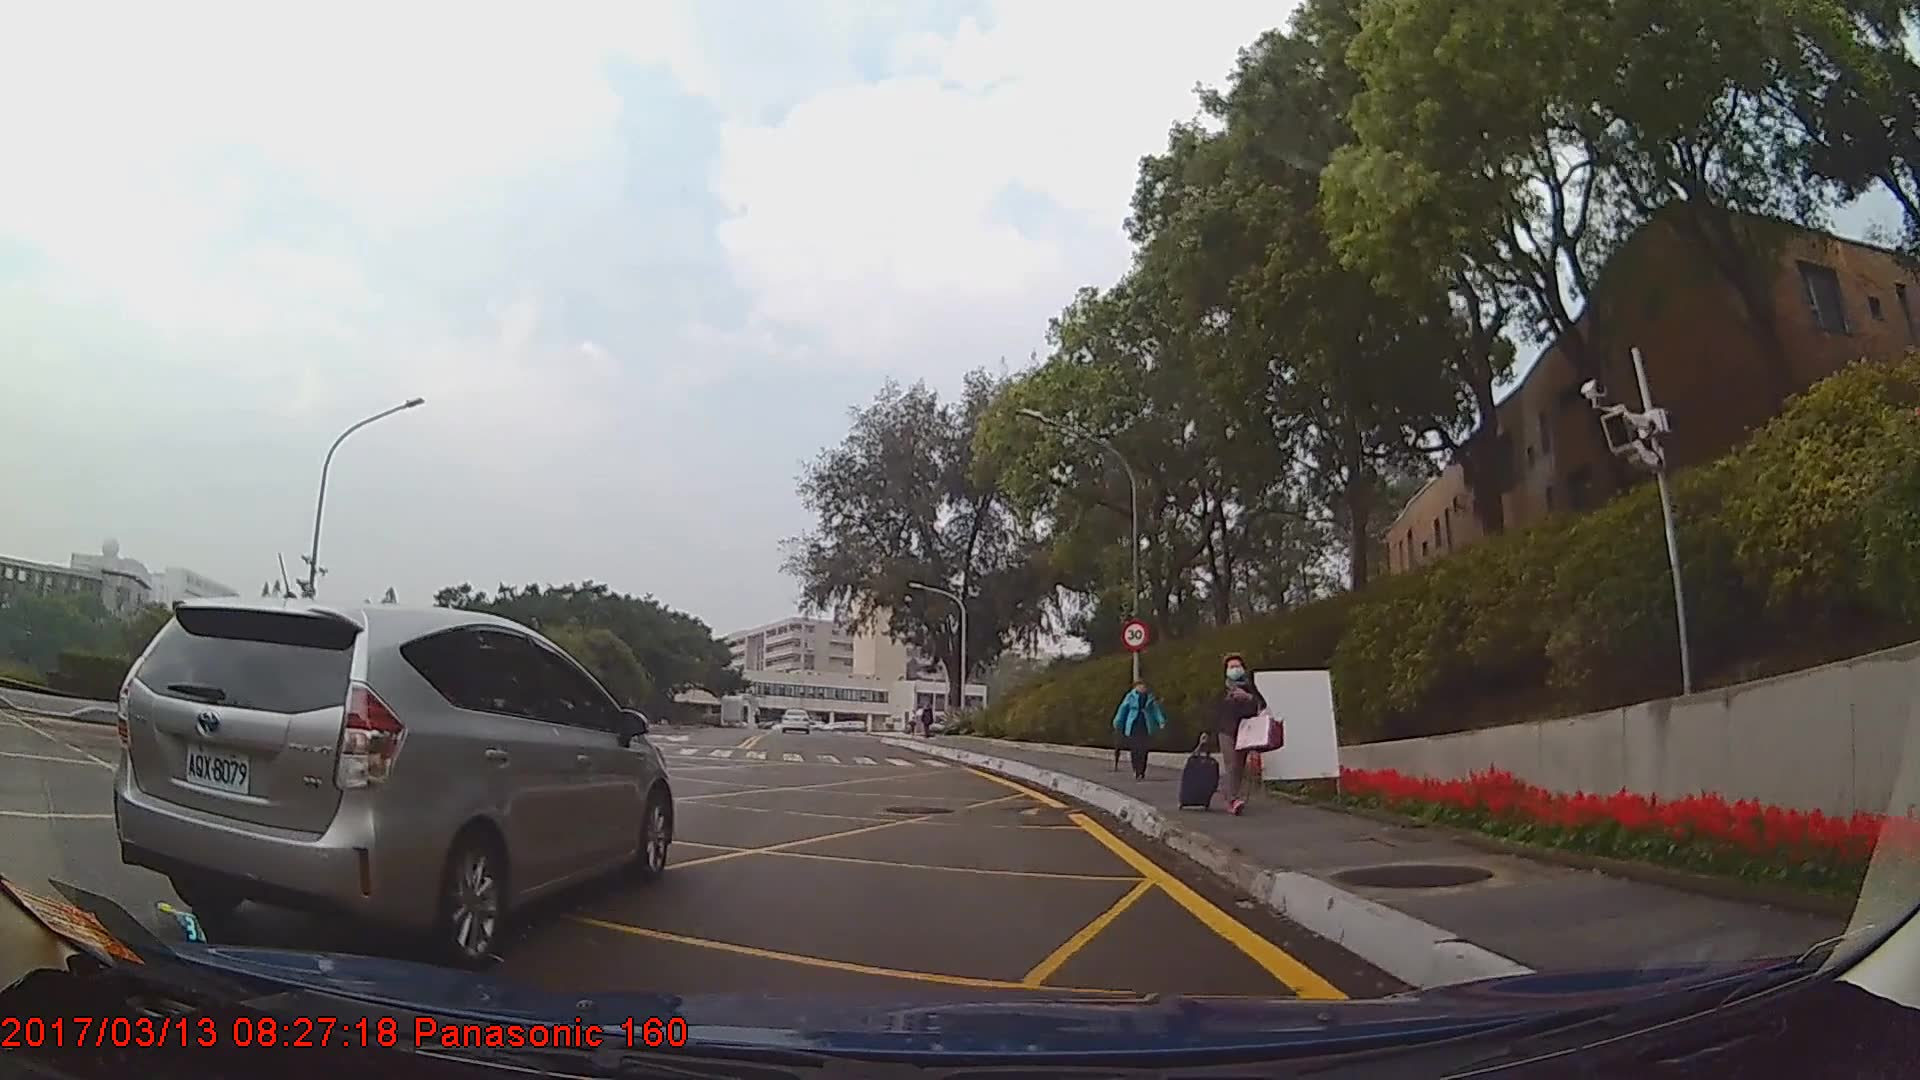pedestrian: (1177, 652, 1278, 816), (1116, 679, 1167, 785)
vehicle: (112, 597, 676, 964), (779, 704, 811, 735)
